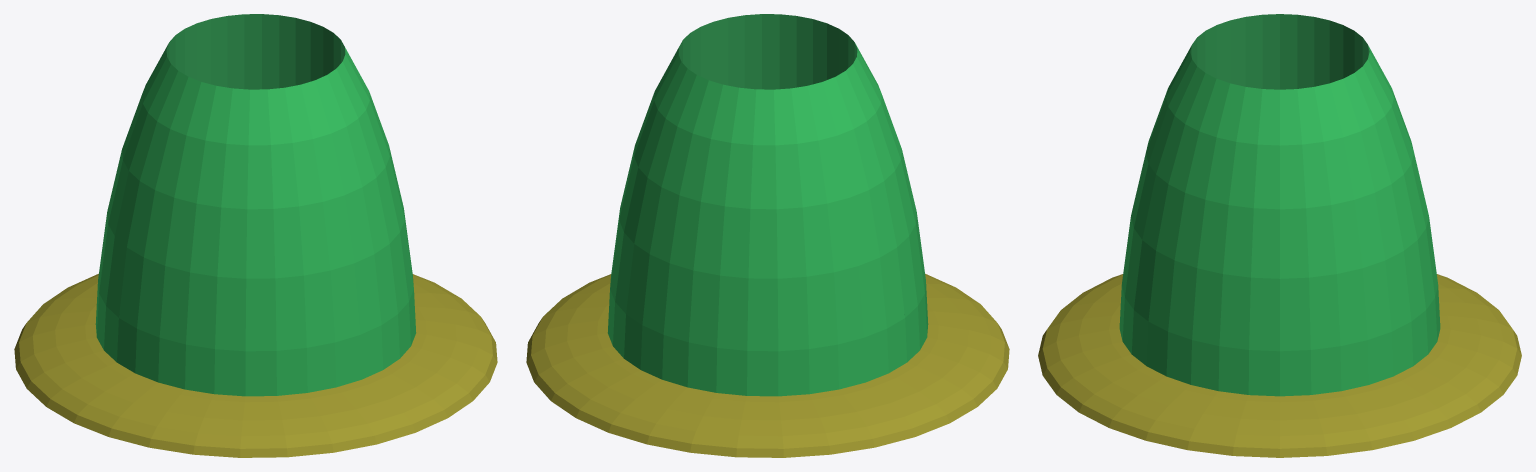
The model's file is Venct.obj.
The picture shows the model from 3 angles, left to right: view 1: azimuth 30°, elevation 25°; view 2: azimuth 150°, elevation 25°; view 3: azimuth 270°, elevation 25°; orthographic projection.
Visible parts, largest first — view 1: Vent; view 2: Vent; view 3: Vent.
Part boxes in pixels (box(x1,y1,x2,y2)): Vent: box(14, 14, 497, 457); Vent: box(526, 14, 1009, 457); Vent: box(1038, 14, 1521, 457).
Bounding box in the file's own units: 0.6 × 0.4157 × 0.6.
Materials: 1 (1 with a texture image).
